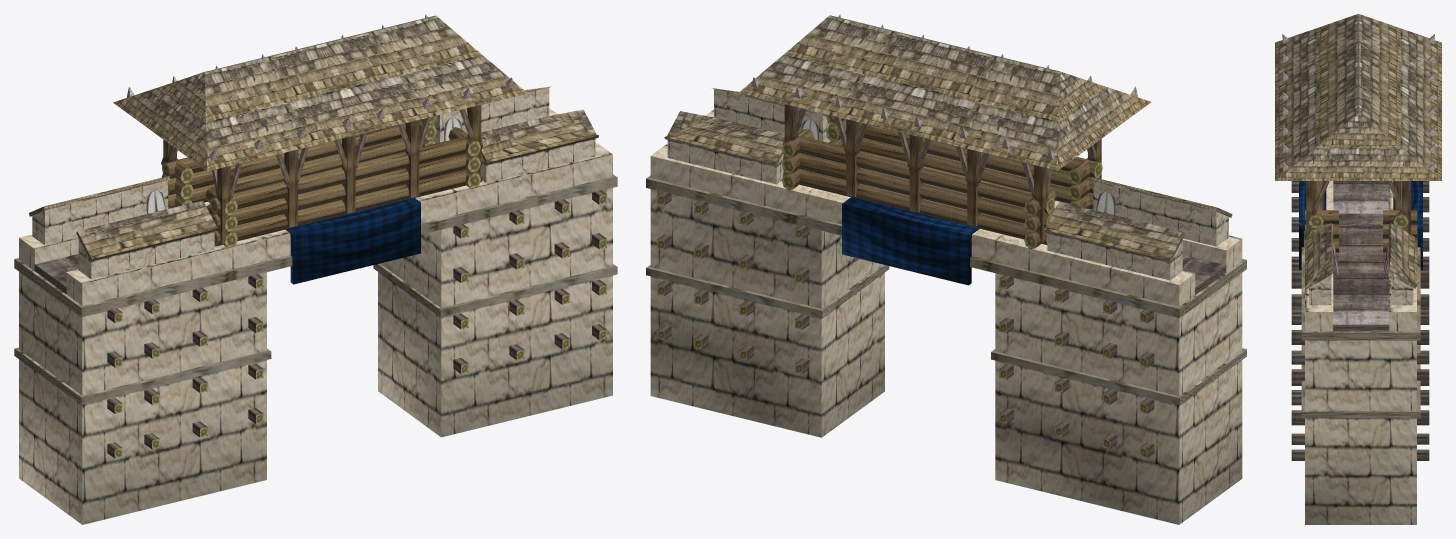
The model's file is wall_gate.dae.
The picture shows the model from 3 angles, left to right: view 1: azimuth 30°, elevation 25°; view 2: azimuth 150°, elevation 25°; view 3: azimuth 270°, elevation 25°; orthographic projection. The views are drawn at different scales.
Visible parts, largest first — view 1: wall_gate; view 2: wall_gate; view 3: wall_gate.
Part boxes in pixels (<box>): wall_gate: <box>14,14,617,524</box>; wall_gate: <box>646,14,1246,524</box>; wall_gate: <box>1275,14,1441,524</box>.
Size of the model in its own units: 32.18 by 9.82 by 22.57.
